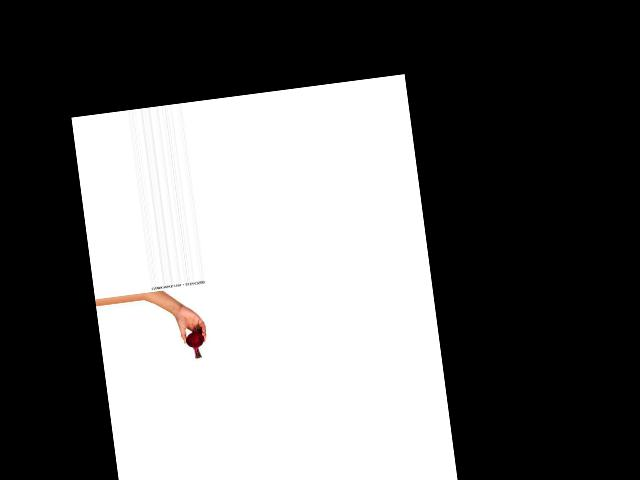beet: (185, 330, 207, 359)
